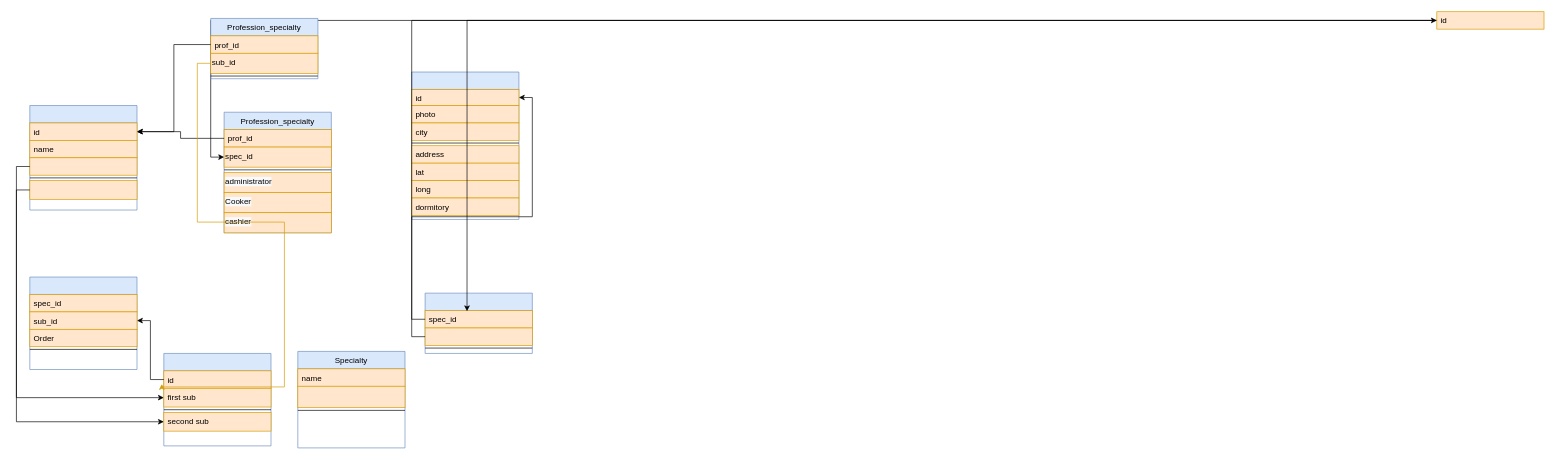
Image size: 1556x460. Some labels were removed from this diagram. Here are the shapes that lost their labels. From the top down, the box of each, then its label:
(29, 105, 137, 210): Professions
(411, 71, 519, 219): Universities
(29, 157, 137, 175): ans1
(29, 180, 137, 199): ans2
(29, 276, 137, 370): specialty_subject
(424, 292, 532, 353): Specialty_university
(424, 327, 532, 345): uni_id
(163, 353, 271, 446): Subjects
(297, 386, 405, 408): code
